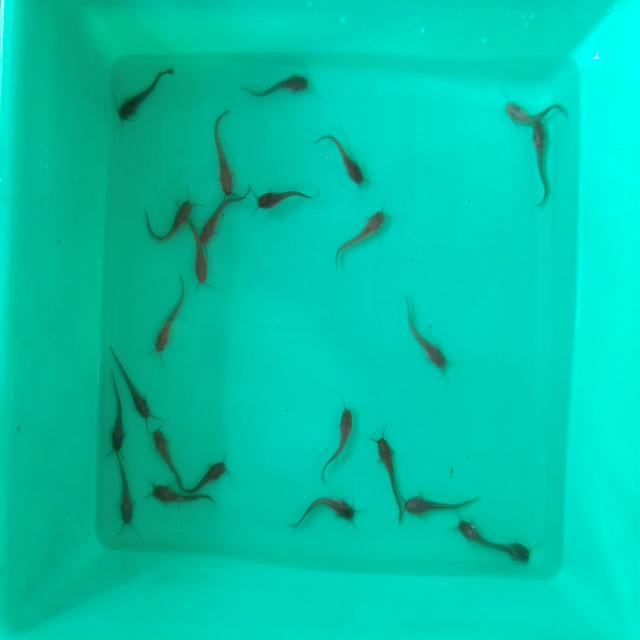lele: (116, 62, 176, 124), (316, 122, 369, 186), (207, 110, 245, 194), (316, 406, 358, 481), (376, 430, 408, 524), (338, 210, 387, 265), (118, 343, 153, 419), (136, 198, 196, 242), (406, 319, 451, 375), (152, 276, 185, 352), (530, 122, 555, 214), (240, 67, 313, 98), (150, 431, 186, 488), (404, 493, 480, 520), (292, 497, 360, 526), (493, 530, 538, 572), (502, 99, 569, 127), (106, 382, 129, 458), (182, 456, 227, 494), (253, 187, 321, 212), (115, 457, 138, 530), (187, 222, 210, 288), (457, 516, 498, 552), (202, 196, 232, 243), (148, 482, 184, 508)
